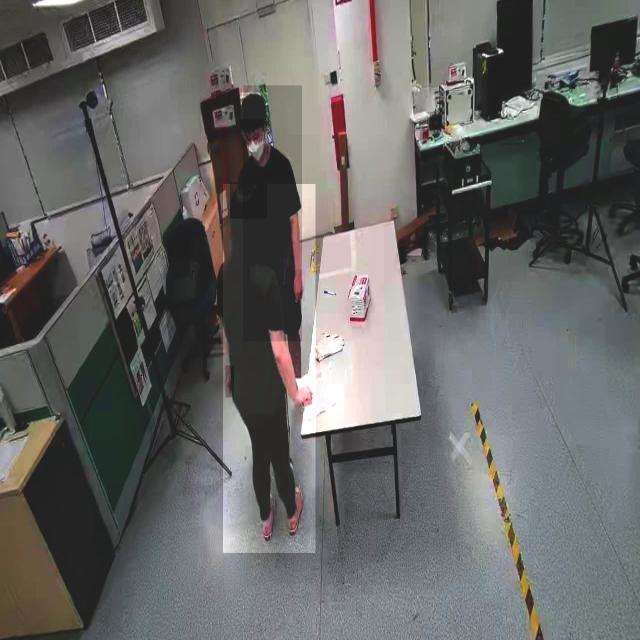face_mask: (244, 124, 266, 176)
hand_noglove: (294, 382, 314, 408), (293, 270, 305, 302), (225, 366, 234, 398)
head_nohelmet: (229, 182, 267, 220), (240, 92, 268, 120)
person: (222, 184, 316, 554), (243, 86, 302, 342)
shoes: (259, 488, 277, 543), (287, 482, 306, 534)
